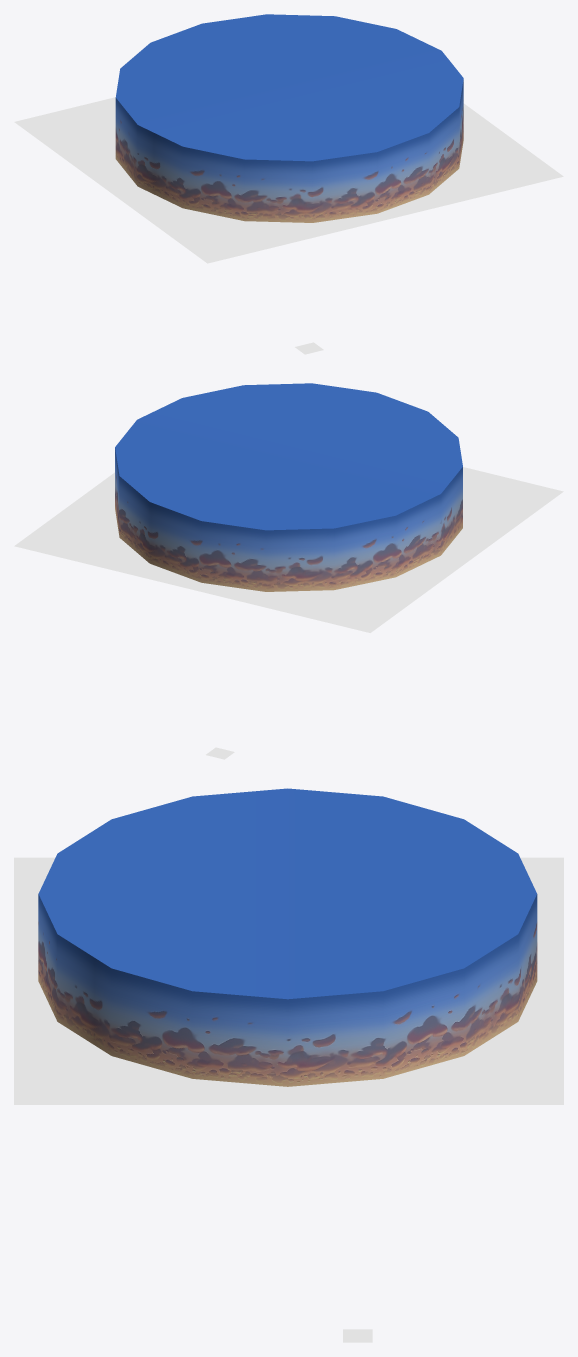
File: fatamorgana_city.glb
The picture shows the model from 3 angles, top to bottom: view 1: azimuth 30°, elevation 25°; view 2: azimuth 150°, elevation 25°; view 3: azimuth 270°, elevation 25°; orthographic projection. The views are drawn at different scales.
Parts seen in each view (by area): view 1: sultanbackground, beachwater; view 2: sultanbackground, beachwater; view 3: sultanbackground, beachwater.
Part boxes in pixels (left/top/right/bottom): sultanbackground: left=115, top=14, right=463, bottom=222; beachwater: left=14, top=97, right=563, bottom=354; sultanbackground: left=115, top=383, right=462, bottom=591; beachwater: left=14, top=467, right=563, bottom=759; sultanbackground: left=38, top=788, right=537, bottom=1086; beachwater: left=14, top=857, right=563, bottom=1342.
Size of the model in its own units: 329 by 255 by 309.
Materials: 56 (55 with a texture image).
